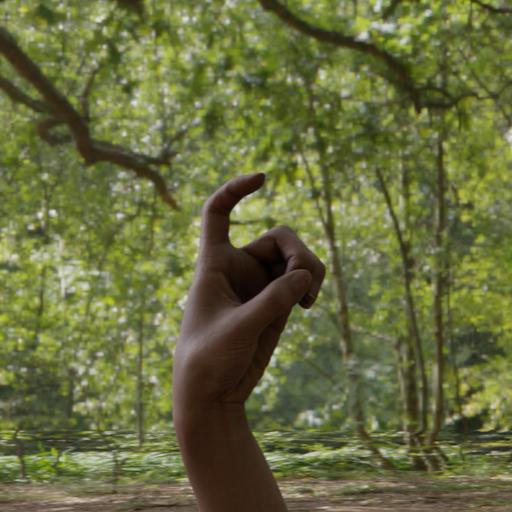X: (161, 154, 331, 436)
